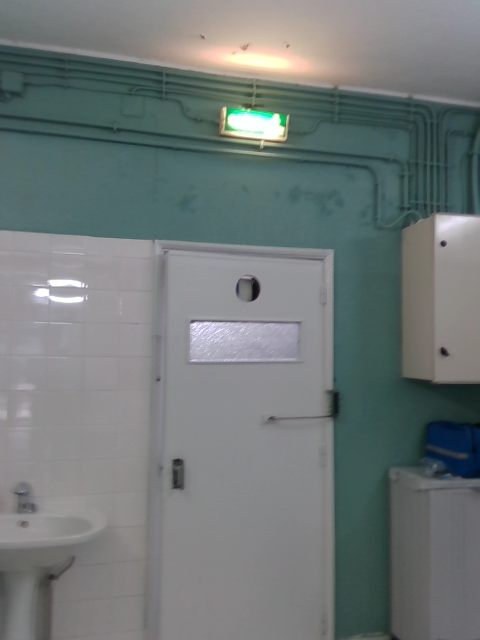closed: (142, 240, 336, 639)
